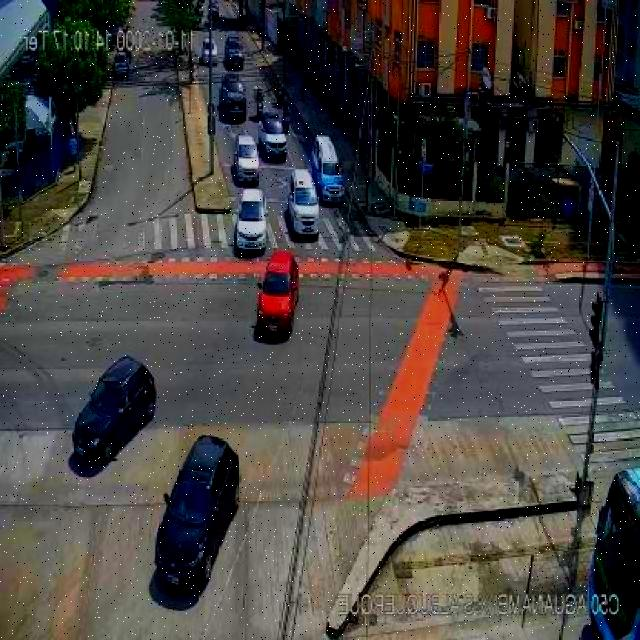Bus: (588, 464, 639, 634)
Car: (145, 427, 247, 623), (71, 356, 156, 471), (256, 252, 301, 339), (234, 189, 268, 253), (287, 170, 319, 235), (256, 106, 290, 160), (218, 74, 248, 121), (233, 134, 260, 184), (224, 34, 244, 70), (200, 37, 218, 66), (114, 52, 130, 80)
Cycle: (248, 81, 269, 116)
Van: (306, 129, 349, 205)
